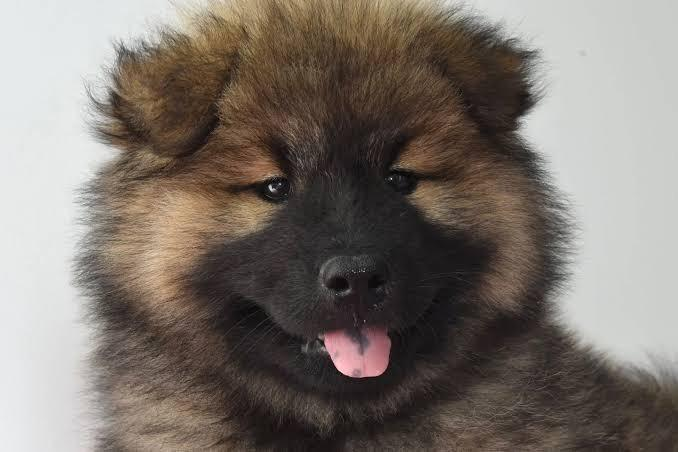puppy-dog: (71, 0, 678, 452)
